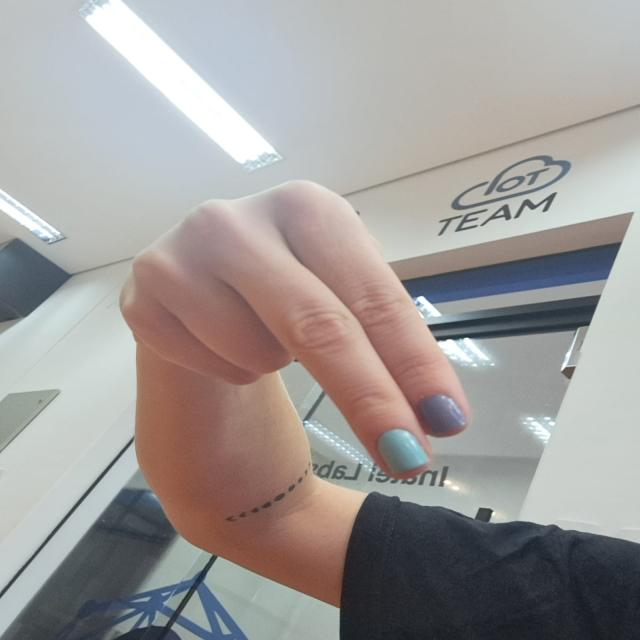N: (109, 154, 499, 494)
